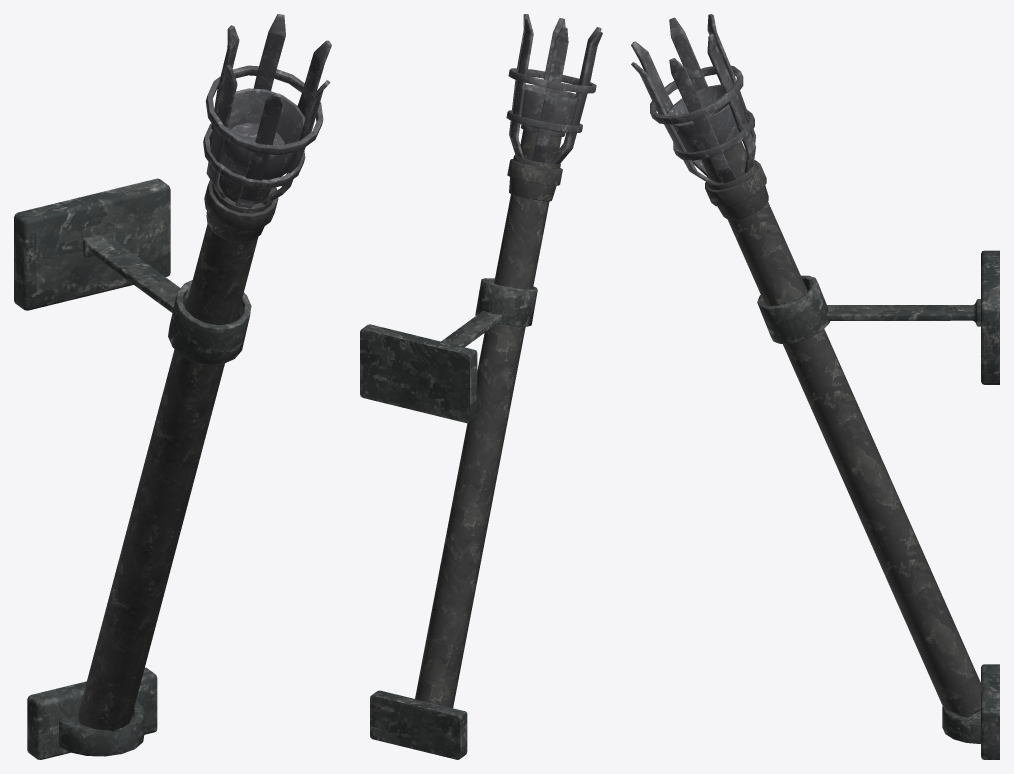
Rendered from Torch1.fbx.
The picture shows the model from 3 angles, left to right: view 1: azimuth 30°, elevation 25°; view 2: azimuth 150°, elevation 25°; view 3: azimuth 270°, elevation 25°; orthographic projection. The views are drawn at different scales.
Visible parts, largest first — view 1: Torch1; view 2: Torch1; view 3: Torch1.
Boxes of the visible parts, x1=… form: Torch1: x1=14, y1=14, x2=331, y2=759; Torch1: x1=360, y1=14, x2=602, y2=759; Torch1: x1=631, y1=14, x2=999, y2=759.
Bounding box in the file's own units: 0.0934 × 0.514 × 0.2418.
